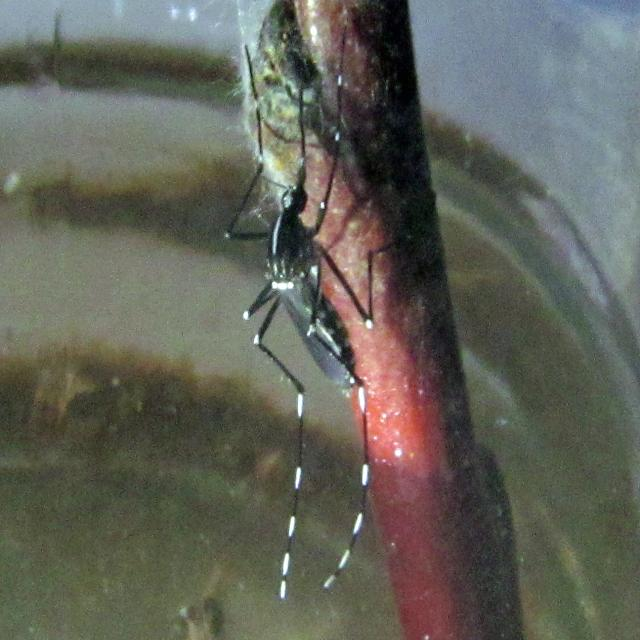albopictus: (203, 17, 417, 604)
